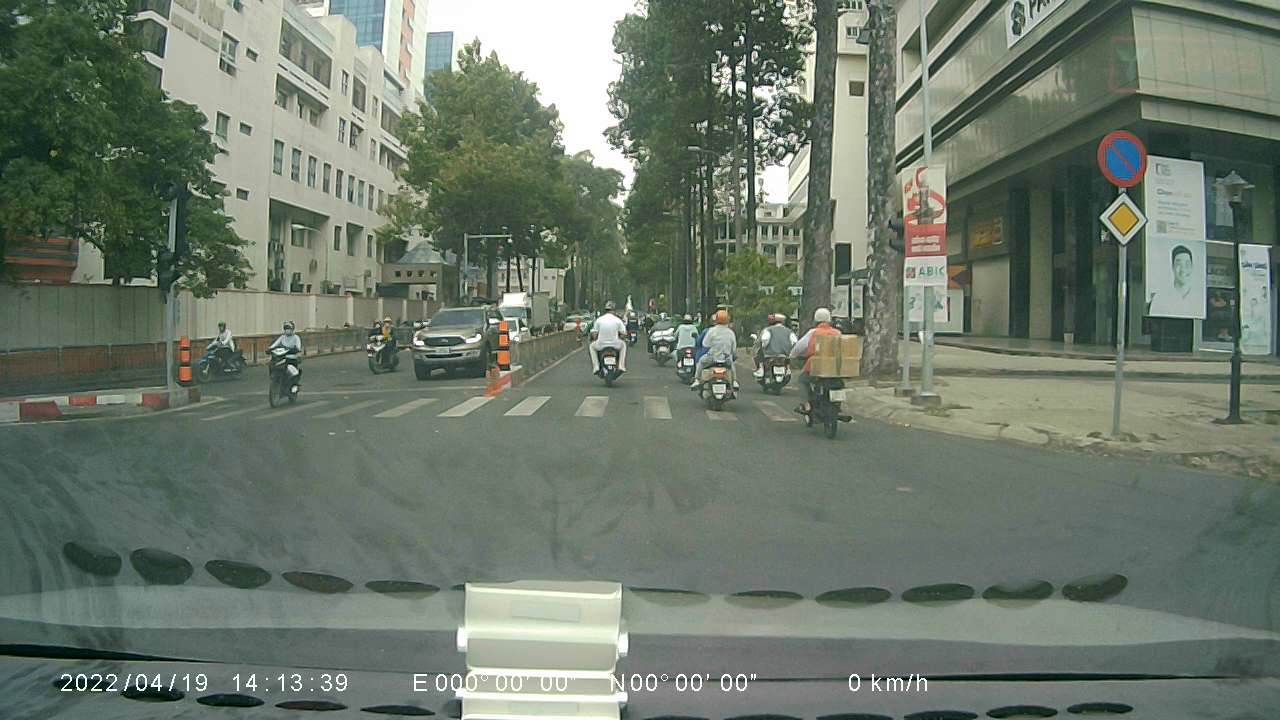Bien khac: (1095, 190, 1150, 245)
Cam do xe: (1092, 127, 1148, 187)
